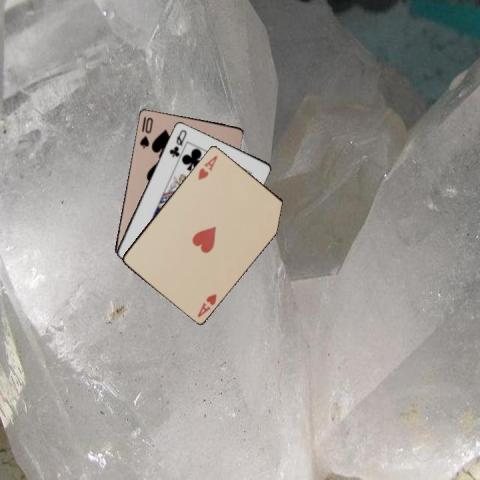10s: (137, 114, 154, 149)
Ah: (194, 152, 219, 181), (194, 290, 218, 318)
Qc: (166, 126, 188, 158)
